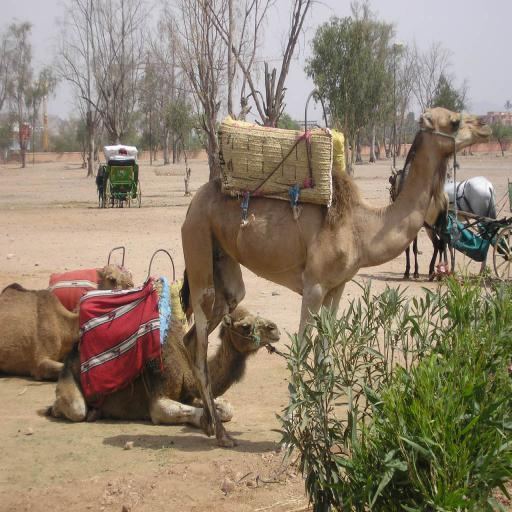horse: (387, 170, 450, 284), (444, 170, 500, 276), (94, 166, 104, 206)
